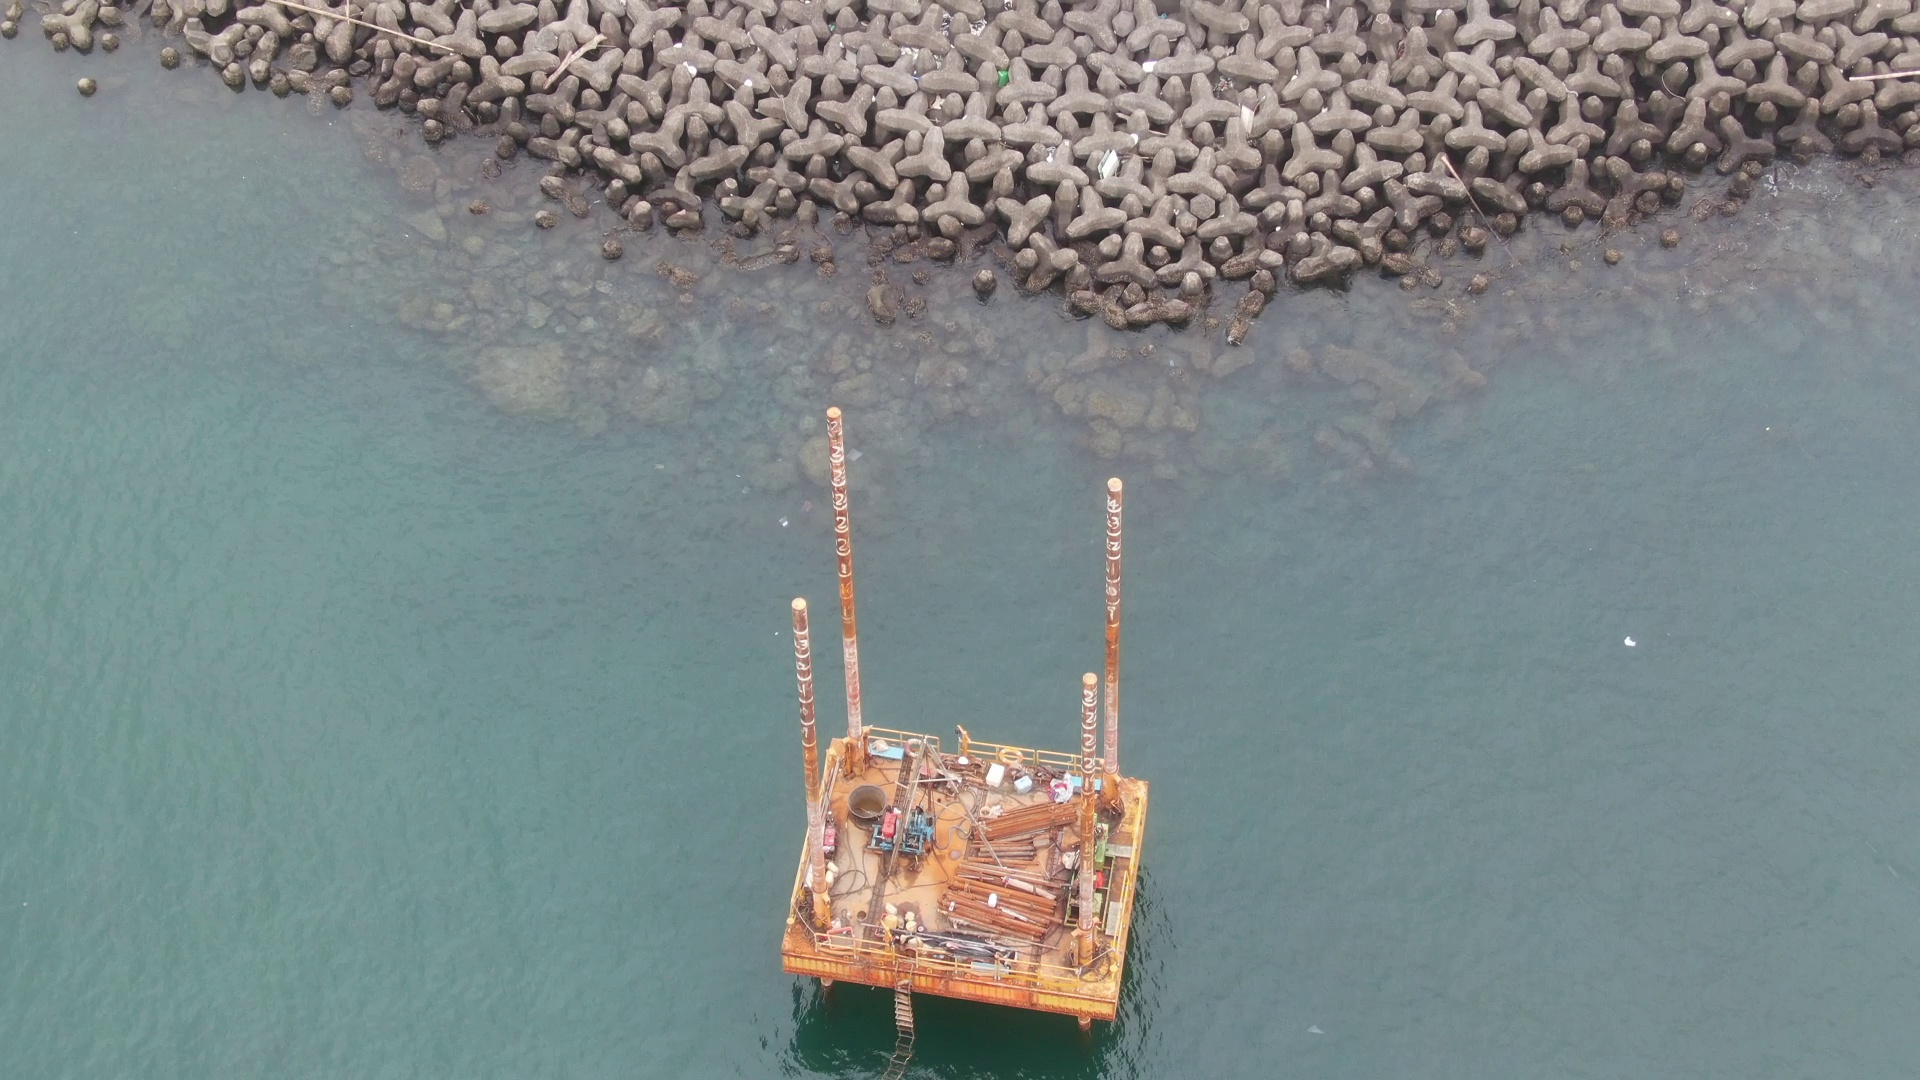garbage: (1083, 148, 1135, 183), (986, 58, 1011, 88)
